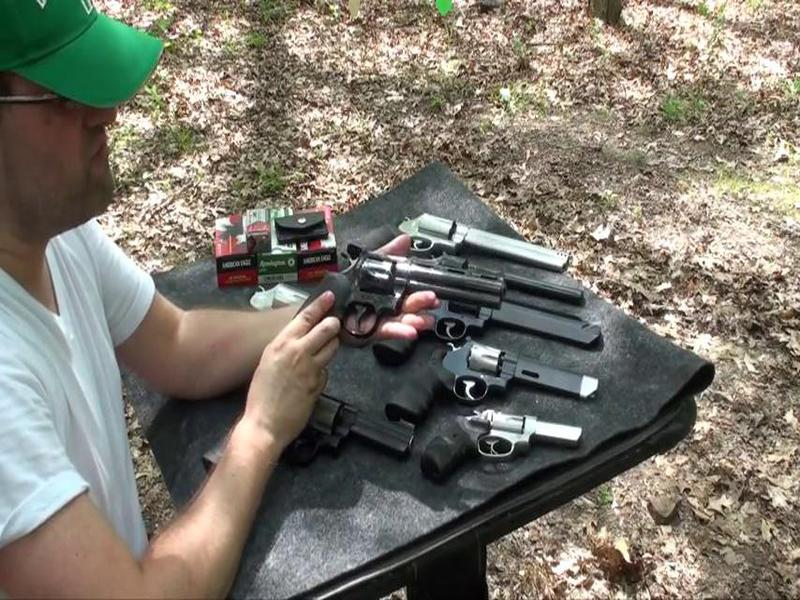Revolver: (296, 240, 507, 368)
